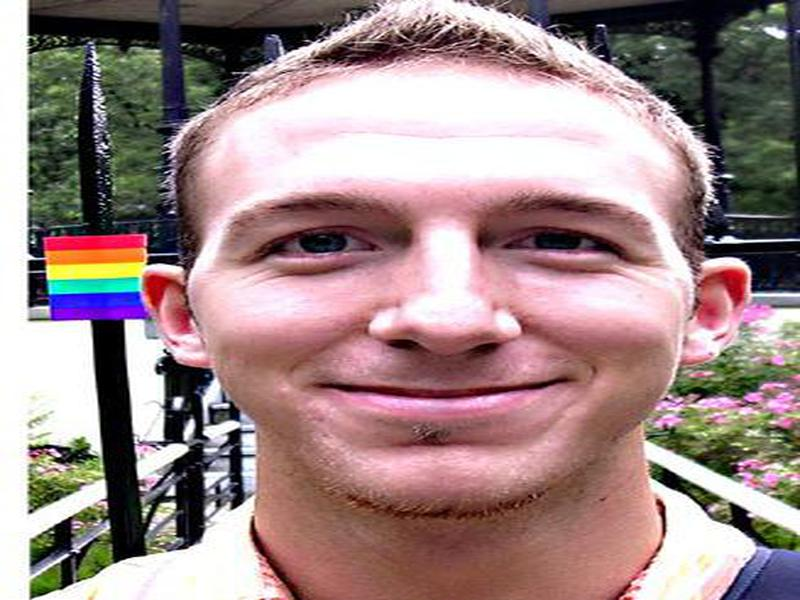without_mask: (190, 150, 689, 519)
